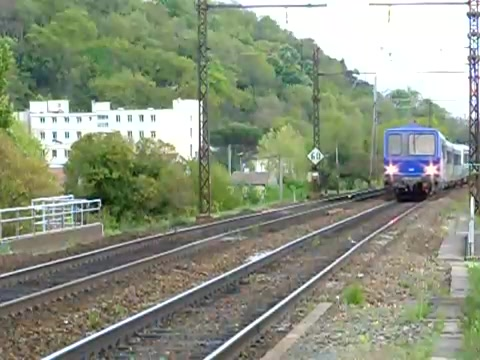train: (383, 124, 472, 205)
